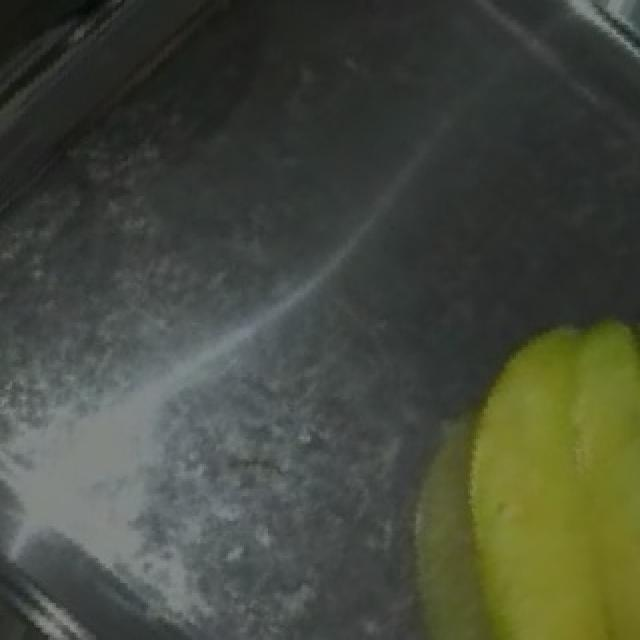fruit: (402, 288, 640, 640)
